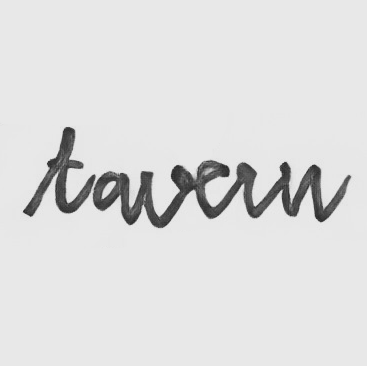a: (90, 169, 134, 219)
e: (195, 158, 234, 221)
n: (277, 160, 327, 224)
r: (235, 158, 272, 221)
t: (45, 125, 85, 216)
v: (138, 164, 194, 229)
